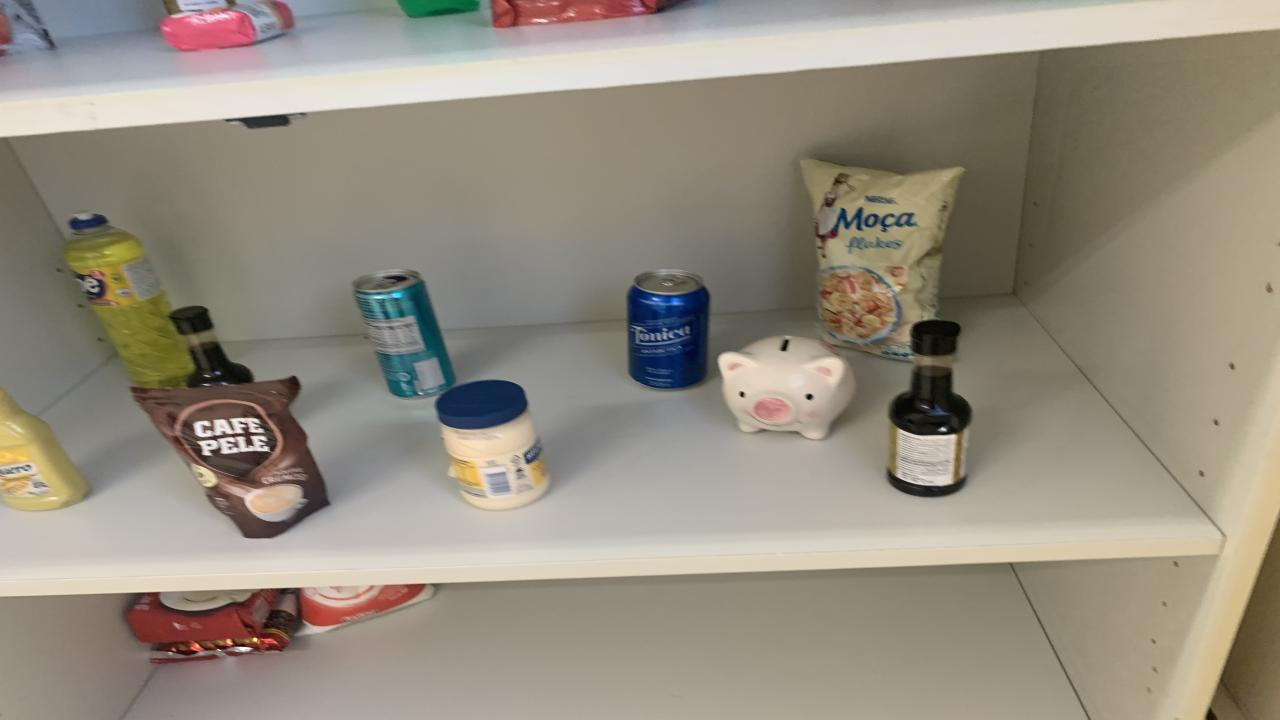Coffee-Pantry_Items: (132, 377, 330, 538)
Detergent-Cleanup_Items: (62, 214, 192, 388), (398, 0, 480, 17)
English_Sauce-Pantry_Items: (888, 321, 972, 497), (170, 306, 252, 388), (162, 0, 238, 15)
Flakes-Snacks: (800, 159, 965, 360)
Guava-Snacks: (490, 0, 675, 28)
Mayonnaise-Pantry_Items: (435, 381, 550, 510)
Mustard-Pantry_Items: (0, 388, 90, 510)
Pig_Safe-Miscellaneous: (718, 336, 855, 439)
Soap-Cleanup_Items: (160, 0, 292, 51)
Tea-Drinks: (352, 270, 455, 398)
Tonic-Drinks: (628, 270, 710, 388)
